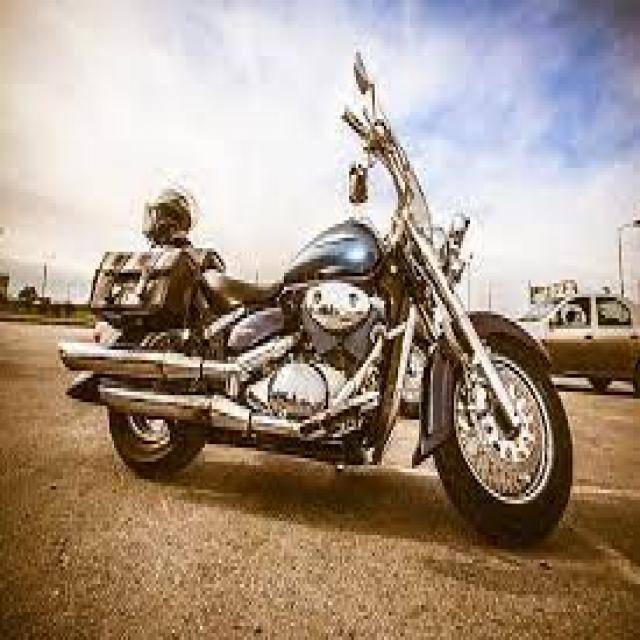Bike: (58, 52, 574, 553)
